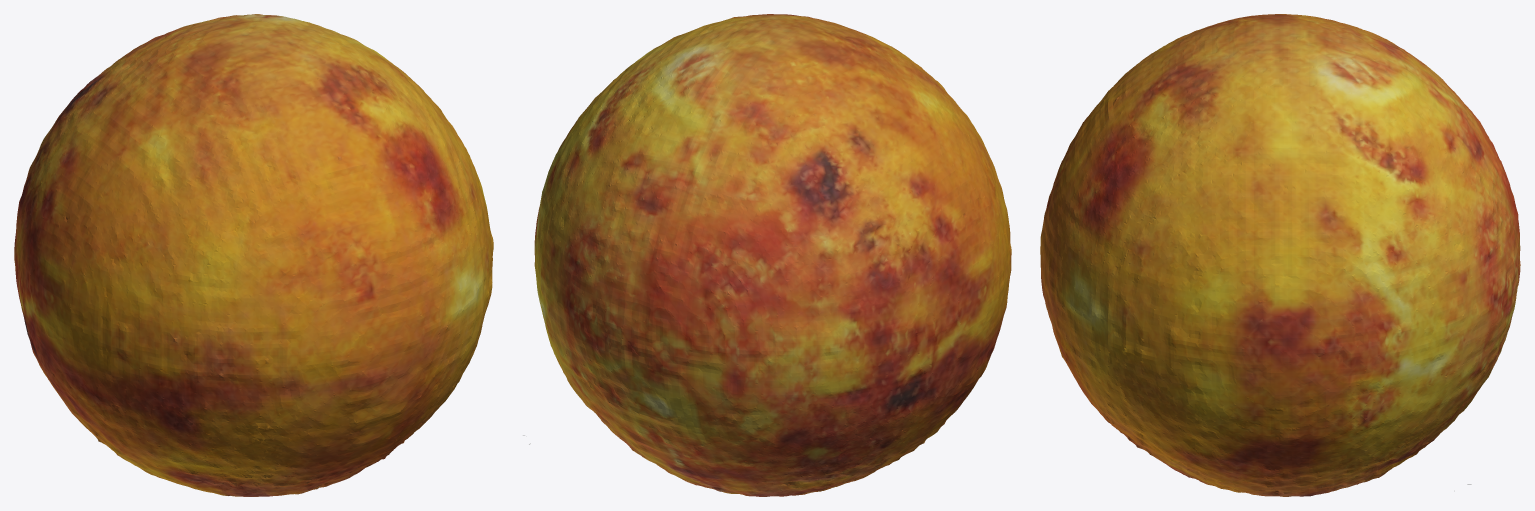
File: sun.glb
The picture shows the model from 3 angles, left to right: view 1: azimuth 30°, elevation 25°; view 2: azimuth 150°, elevation 25°; view 3: azimuth 270°, elevation 25°; orthographic projection.
Parts seen in each view (by area): view 1: world; view 2: world; view 3: world.
Part boxes in pixels (x1,y1,x2,y2): world: (14, 14, 493, 496); world: (522, 14, 1011, 496); world: (1040, 14, 1520, 496).
Bounding box in the file's own units: 1.86 × 1.87 × 1.86.
